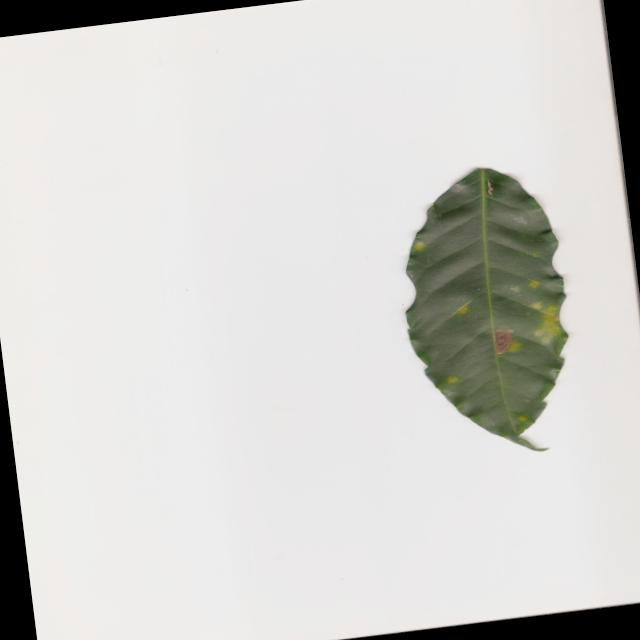KaratDaunKopi: (534, 306, 559, 341), (494, 329, 513, 353), (508, 340, 522, 352), (530, 301, 542, 310), (413, 242, 425, 250), (529, 280, 540, 288), (458, 305, 468, 313), (447, 376, 458, 383), (488, 180, 492, 195), (519, 415, 527, 421), (510, 286, 519, 291)
